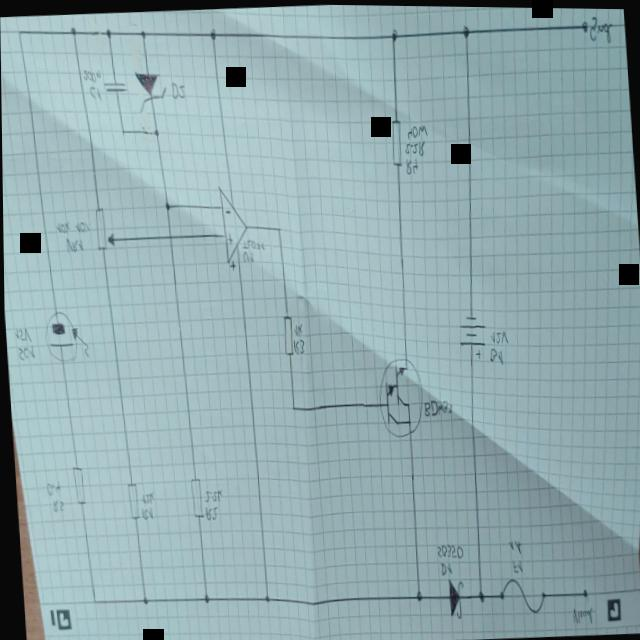capacitor: (101, 79, 126, 96)
crossover: (166, 233, 171, 241)
diode: (132, 69, 166, 113), (444, 577, 460, 620)
junction: (460, 23, 469, 38), (208, 28, 216, 42), (389, 29, 397, 42), (412, 588, 420, 601), (68, 26, 76, 38), (475, 589, 483, 601), (151, 126, 159, 138), (138, 596, 146, 606), (103, 29, 110, 39), (200, 594, 207, 604), (138, 30, 145, 40), (261, 593, 268, 603), (162, 201, 168, 211), (89, 597, 94, 606), (289, 403, 294, 412), (119, 126, 124, 135), (274, 226, 279, 234), (15, 29, 20, 37)
resistor: (91, 206, 114, 254), (387, 117, 403, 167), (187, 476, 202, 518), (123, 481, 138, 521), (69, 466, 83, 506), (279, 315, 292, 355)
source: (456, 312, 485, 360)
terminal: (578, 18, 587, 34), (577, 586, 585, 598)
text: (589, 15, 612, 43), (420, 397, 450, 417), (433, 541, 461, 559), (402, 136, 426, 156), (568, 604, 591, 624), (13, 340, 33, 363), (404, 123, 427, 142), (487, 327, 508, 346), (12, 327, 31, 348), (240, 237, 263, 253), (486, 345, 504, 365), (81, 67, 101, 84), (63, 237, 83, 254), (201, 488, 220, 505), (86, 83, 102, 103), (168, 81, 184, 100), (43, 480, 59, 498), (504, 536, 520, 554), (403, 156, 418, 175), (72, 219, 89, 235), (436, 558, 452, 575), (53, 219, 70, 235), (138, 491, 153, 508), (201, 504, 216, 521), (240, 247, 255, 264), (138, 505, 152, 521), (290, 337, 303, 354), (49, 498, 62, 514), (508, 556, 520, 573), (291, 323, 301, 337)
transistor: (376, 358, 422, 436)
